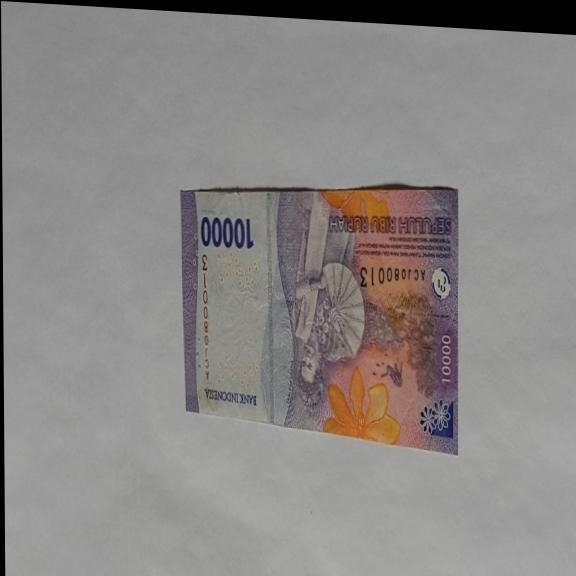Kertas: (179, 171, 460, 457), (199, 213, 254, 252)
